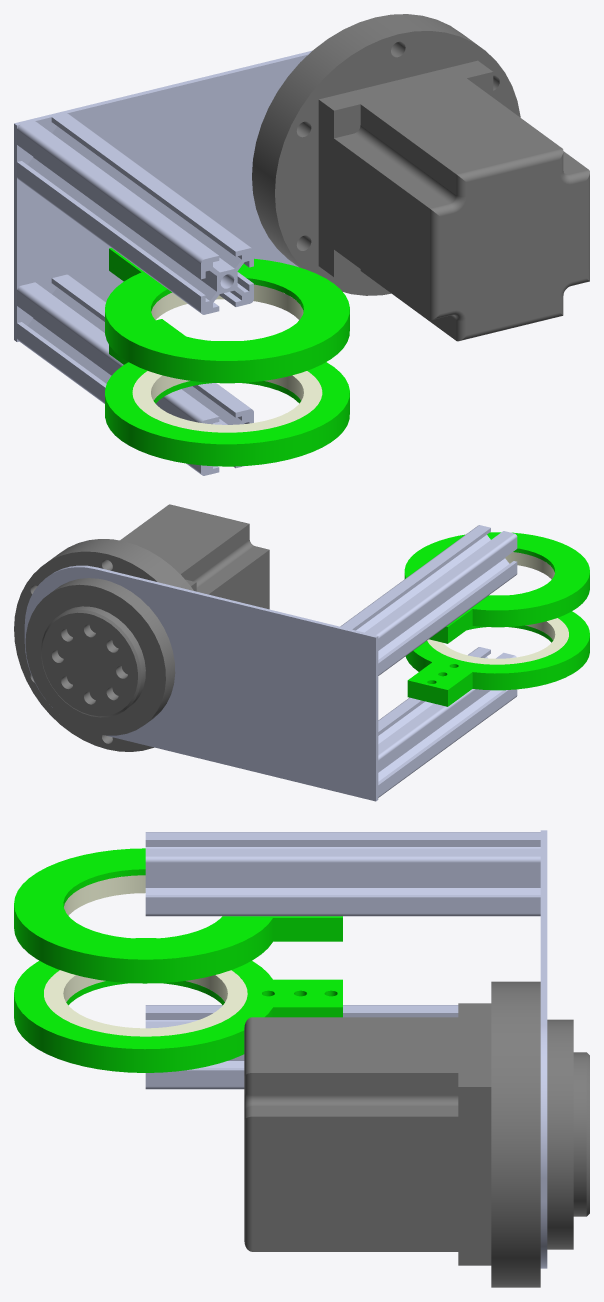
3 views of the same model, one above another, from view 1: azimuth 30°, elevation 25°; view 2: azimuth 150°, elevation 25°; view 3: azimuth 270°, elevation 25° (orthographic). The views are drawn at different scales.
Parts seen in each view (by area): view 1: motoreductor_simplificado2-1, placaL4-1, perfil_corto_V-2, soporte_rodamiento-2, soporte_rodamiento-1, perfil_corto_V-1, rodamiento_50_62_6-1, rodamiento_50_62_6-2; view 2: placaL4-1, motoreductor_simplificado2-1, perfil_corto_V-2, soporte_rodamiento-2, soporte_rodamiento-1, perfil_corto_V-1, rodamiento_50_62_6-1, rodamiento_50_62_6-2; view 3: motoreductor_simplificado2-1, perfil_corto_V-2, soporte_rodamiento-2, soporte_rodamiento-1, perfil_corto_V-1, rodamiento_50_62_6-1, placaL4-1, rodamiento_50_62_6-2.
Part boxes in pixels (x1,y1,x2,y2): motoreductor_simplificado2-1: [252, 14, 589, 341]; placaL4-1: [14, 50, 311, 341]; perfil_corto_V-2: [17, 113, 253, 314]; soporte_rodamiento-2: [105, 248, 349, 383]; soporte_rodamiento-1: [105, 319, 349, 466]; perfil_corto_V-1: [17, 274, 253, 475]; rodamiento_50_62_6-1: [132, 371, 322, 432]; rodamiento_50_62_6-2: [151, 284, 303, 320]; placaL4-1: [24, 565, 378, 801]; motoreductor_simplificado2-1: [14, 504, 269, 751]; perfil_corto_V-2: [340, 525, 517, 675]; soporte_rodamiento-2: [404, 532, 589, 643]; soporte_rodamiento-1: [405, 595, 589, 706]; perfil_corto_V-1: [378, 647, 517, 797]; rodamiento_50_62_6-1: [427, 618, 568, 664]; rodamiento_50_62_6-2: [505, 552, 554, 579]; motoreductor_simplificado2-1: [244, 981, 589, 1287]; perfil_corto_V-2: [145, 832, 540, 916]; soporte_rodamiento-2: [14, 848, 342, 983]; soporte_rodamiento-1: [14, 938, 342, 1072]; perfil_corto_V-1: [145, 1005, 458, 1089]; rodamiento_50_62_6-1: [44, 970, 247, 1036]; placaL4-1: [540, 830, 547, 1268]; rodamiento_50_62_6-2: [64, 875, 145, 915].
Bounding box in the file's own units: 0.2115 × 0.093 × 0.175.
